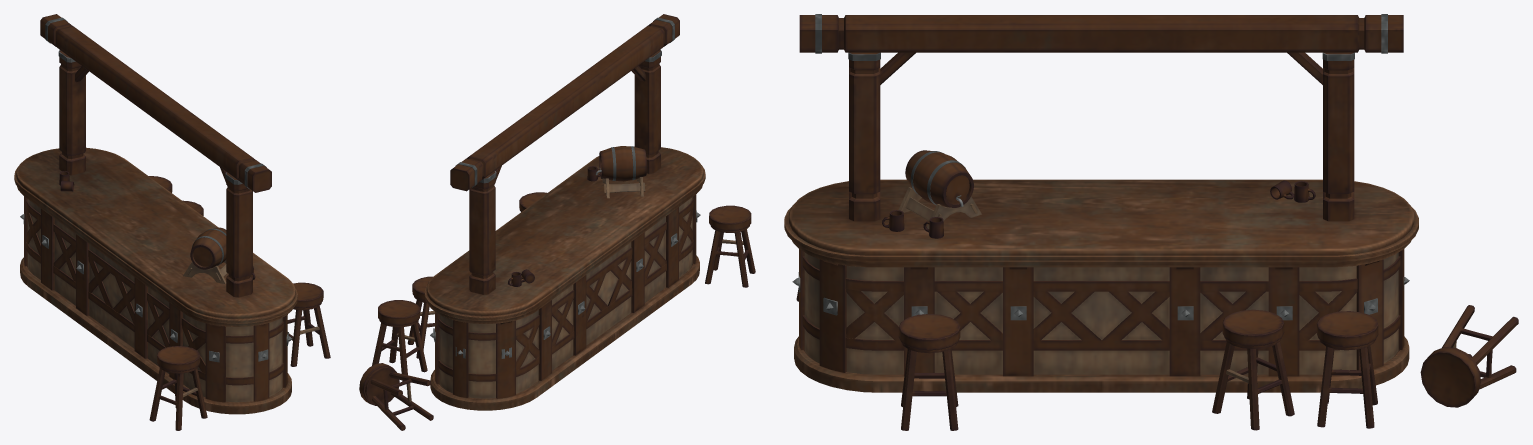
The model's file is beer-bar-e4d0a8.glb.
3 renders of one model, left to right at view 1: azimuth 30°, elevation 25°; view 2: azimuth 150°, elevation 25°; view 3: azimuth 270°, elevation 25°, orthographic. The views are drawn at different scales.
Parts seen in each view (by area): view 1: PropMesh; view 2: PropMesh; view 3: PropMesh.
Boxes of the visible parts, x1,y1,x2,y2 form: PropMesh: [14, 14, 330, 430]; PropMesh: [359, 14, 755, 430]; PropMesh: [784, 14, 1518, 430].
Size of the model in its own units: 1.65 by 1.9 by 3.7.
1 material, 1 textured.
